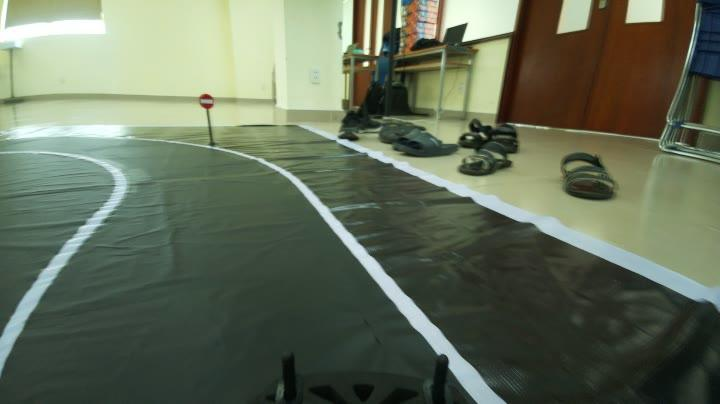no_entry: (194, 91, 219, 111)
